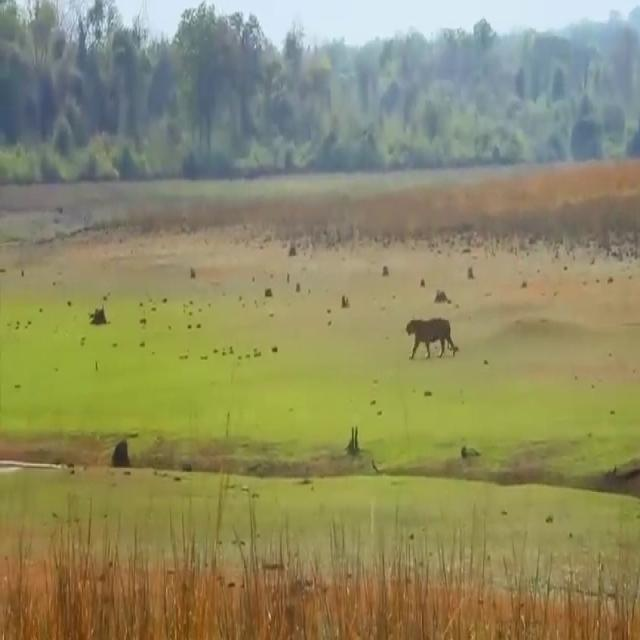tiger: (405, 317, 459, 359)
